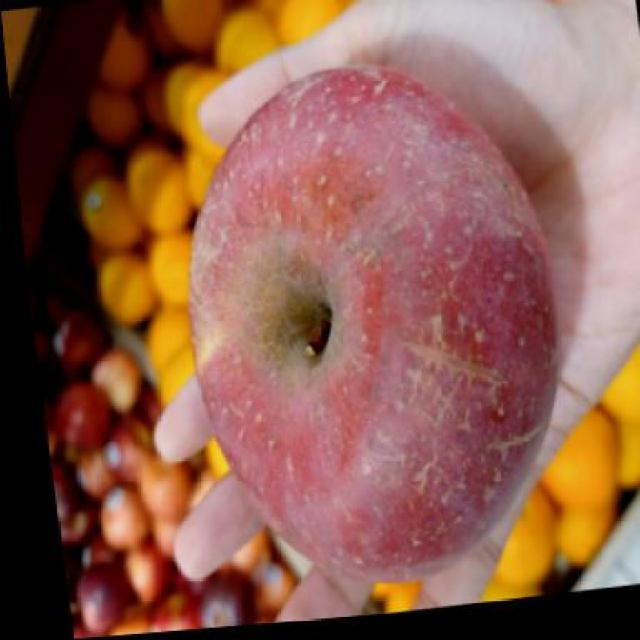Fresh Apple: (201, 63, 557, 580)
